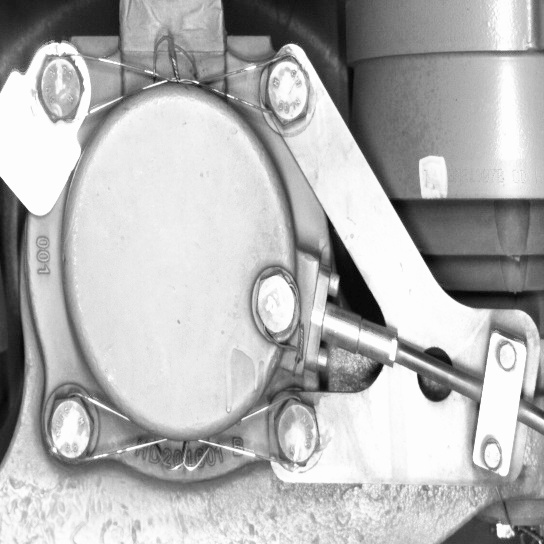IronWire: (34, 387, 325, 475), (27, 47, 316, 133)
Screw: (244, 258, 305, 346), (36, 389, 102, 466), (29, 48, 89, 128), (259, 49, 314, 132), (268, 393, 323, 471)
